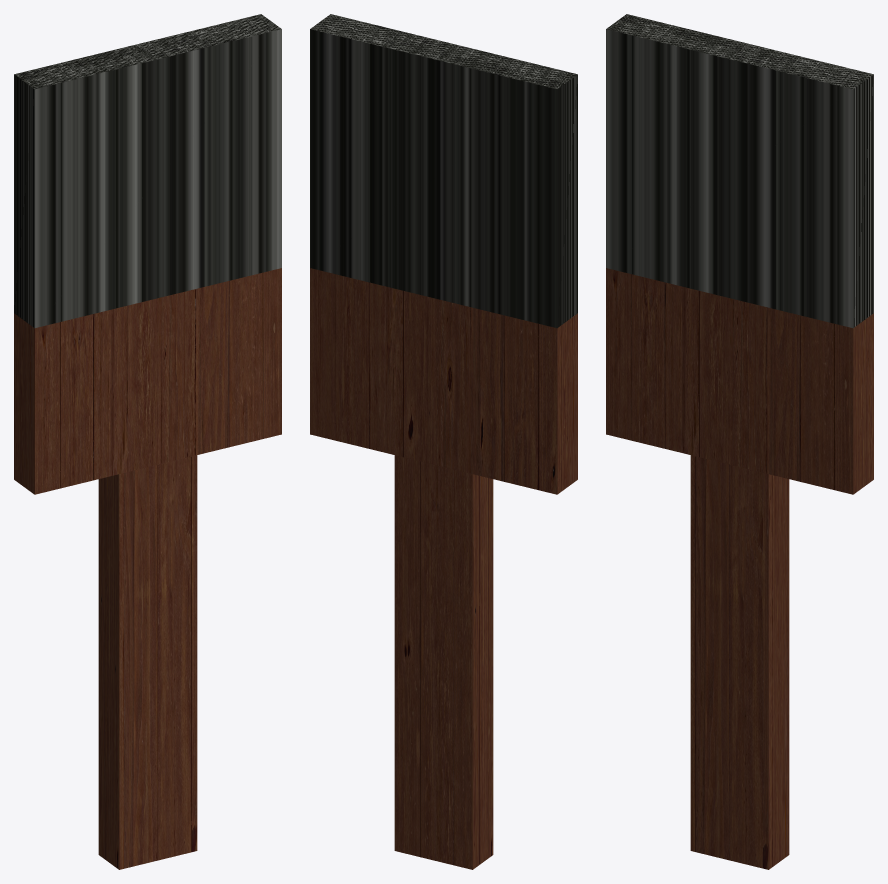
Rendered from item8.fbx.
3 renders of one model, left to right at view 1: azimuth 30°, elevation 25°; view 2: azimuth 150°, elevation 25°; view 3: azimuth 330°, elevation 25°, orthographic.
Parts seen in each view (by area): view 1: Cube.001; view 2: Cube.001; view 3: Cube.001.
Part boxes in pixels (bbox=[...]): Cube.001: bbox=[14, 14, 281, 869]; Cube.001: bbox=[310, 14, 577, 869]; Cube.001: bbox=[606, 14, 873, 869].
Size of the model in its own units: 106 by 329 by 15.37.
Materials: 2 (2 with a texture image).
